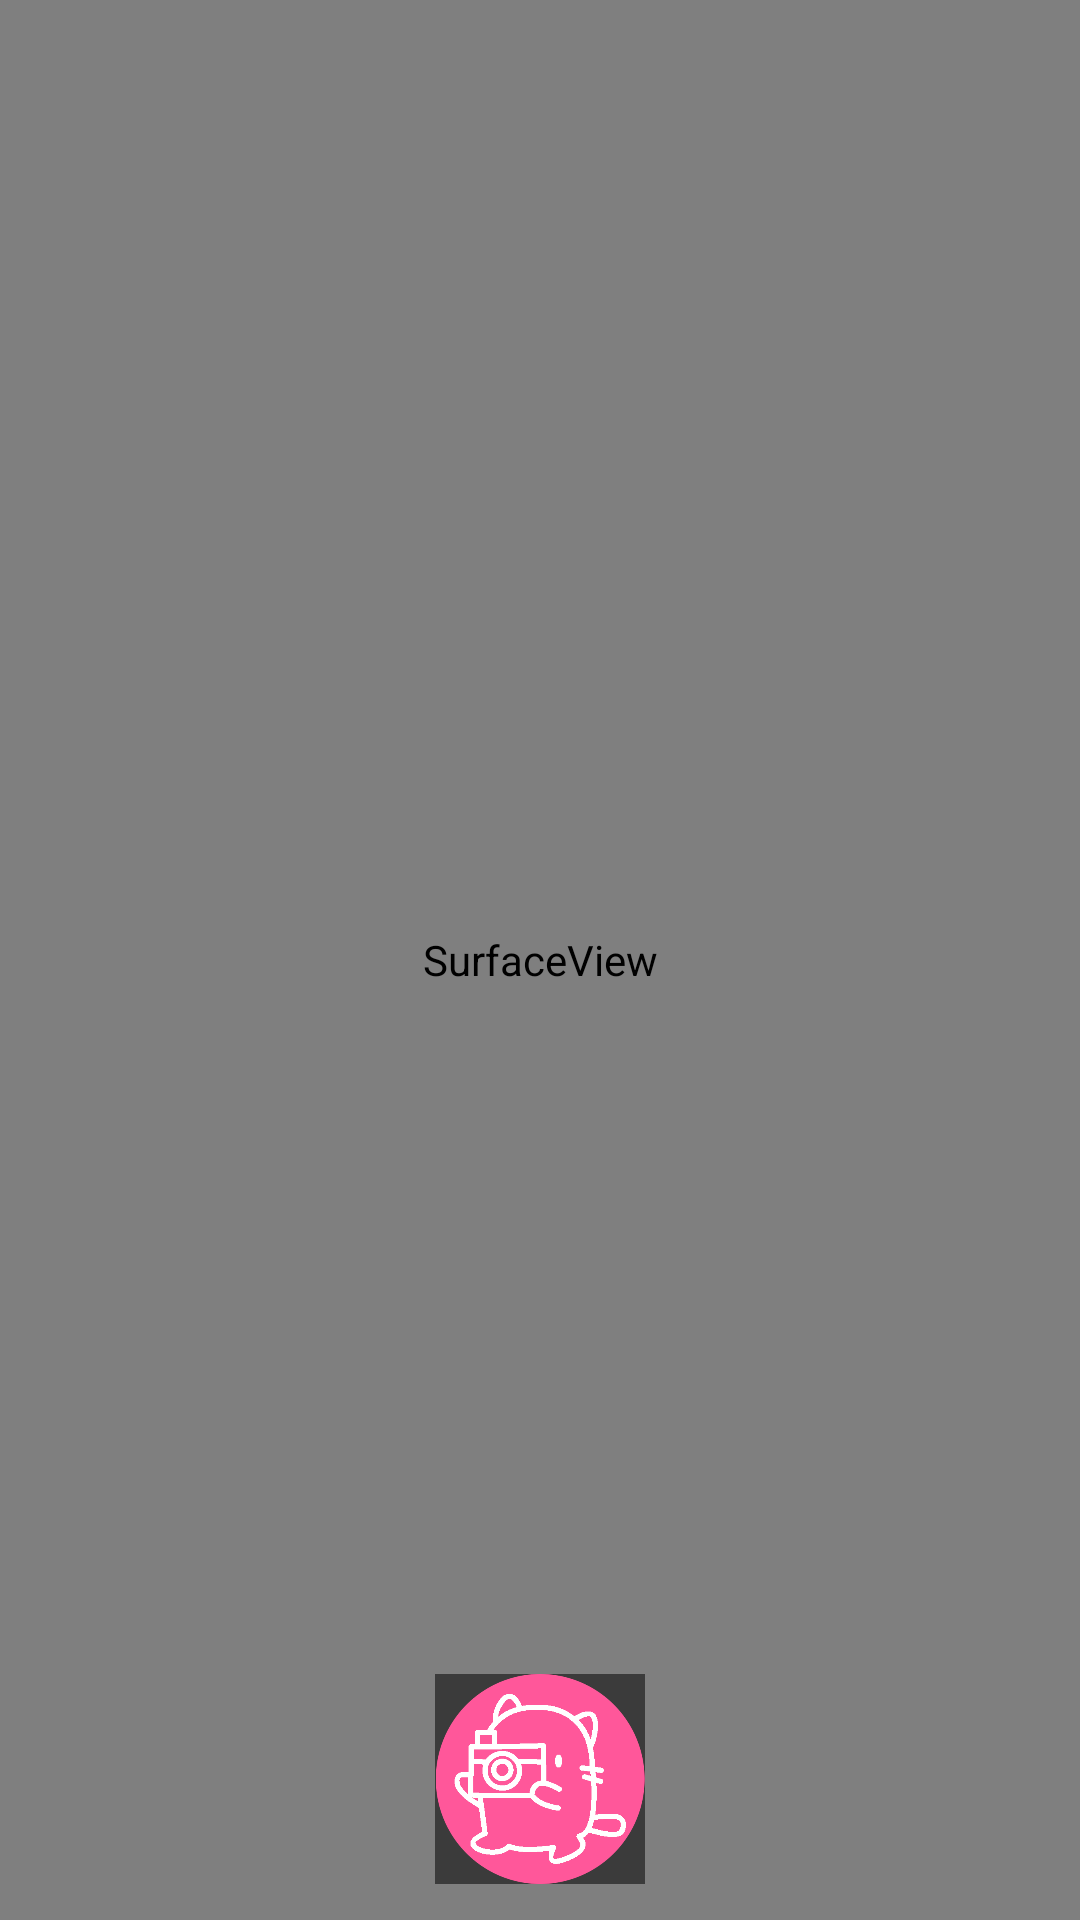

Icons on this 1080px x 1920px Android screen, each with the point to tap as (x=x, y=y):
camera: (x=540, y=1779)
